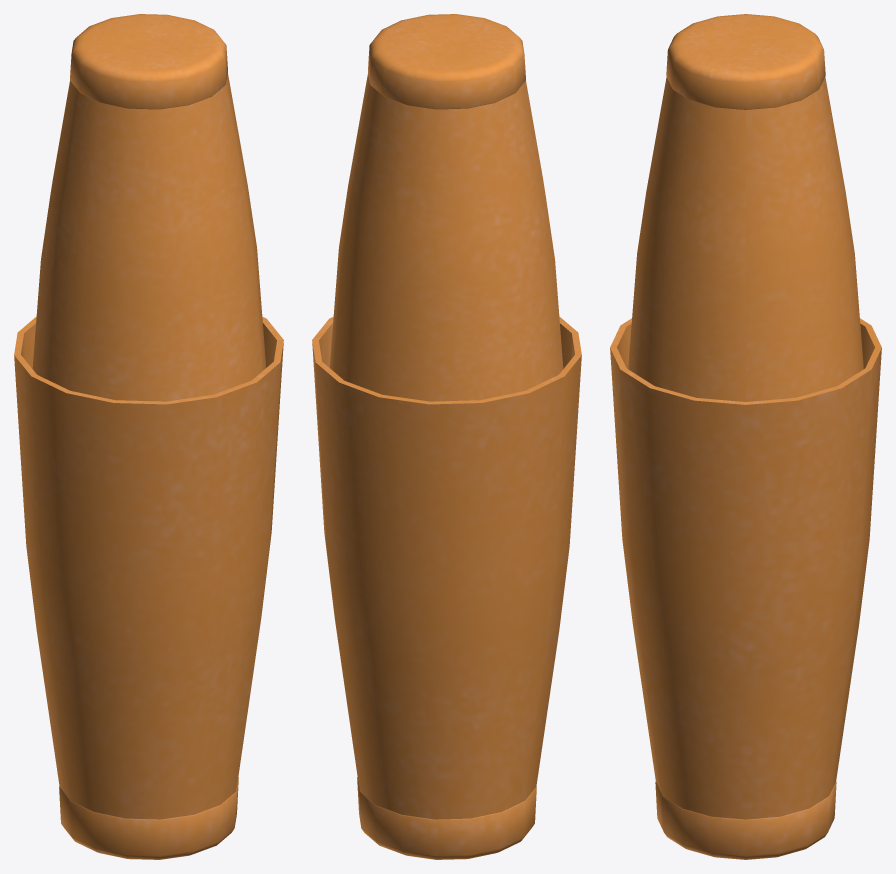
Rendered from shaker.fbx.
The picture shows the model from 3 angles, left to right: view 1: azimuth 30°, elevation 25°; view 2: azimuth 150°, elevation 25°; view 3: azimuth 270°, elevation 25°; orthographic projection.
Visible parts, largest first — view 1: shaker_bottom, shaker_top; view 2: shaker_bottom, shaker_top; view 3: shaker_bottom, shaker_top.
Boxes of the visible parts, x1,y1,x2,y2 form: shaker_bottom: (14, 316, 283, 859); shaker_top: (32, 14, 266, 401); shaker_bottom: (312, 316, 581, 859); shaker_top: (329, 14, 563, 401); shaker_bottom: (610, 318, 881, 859); shaker_top: (628, 14, 863, 401).
Size of the model in its own units: 0.09 by 0.286 by 0.09.
